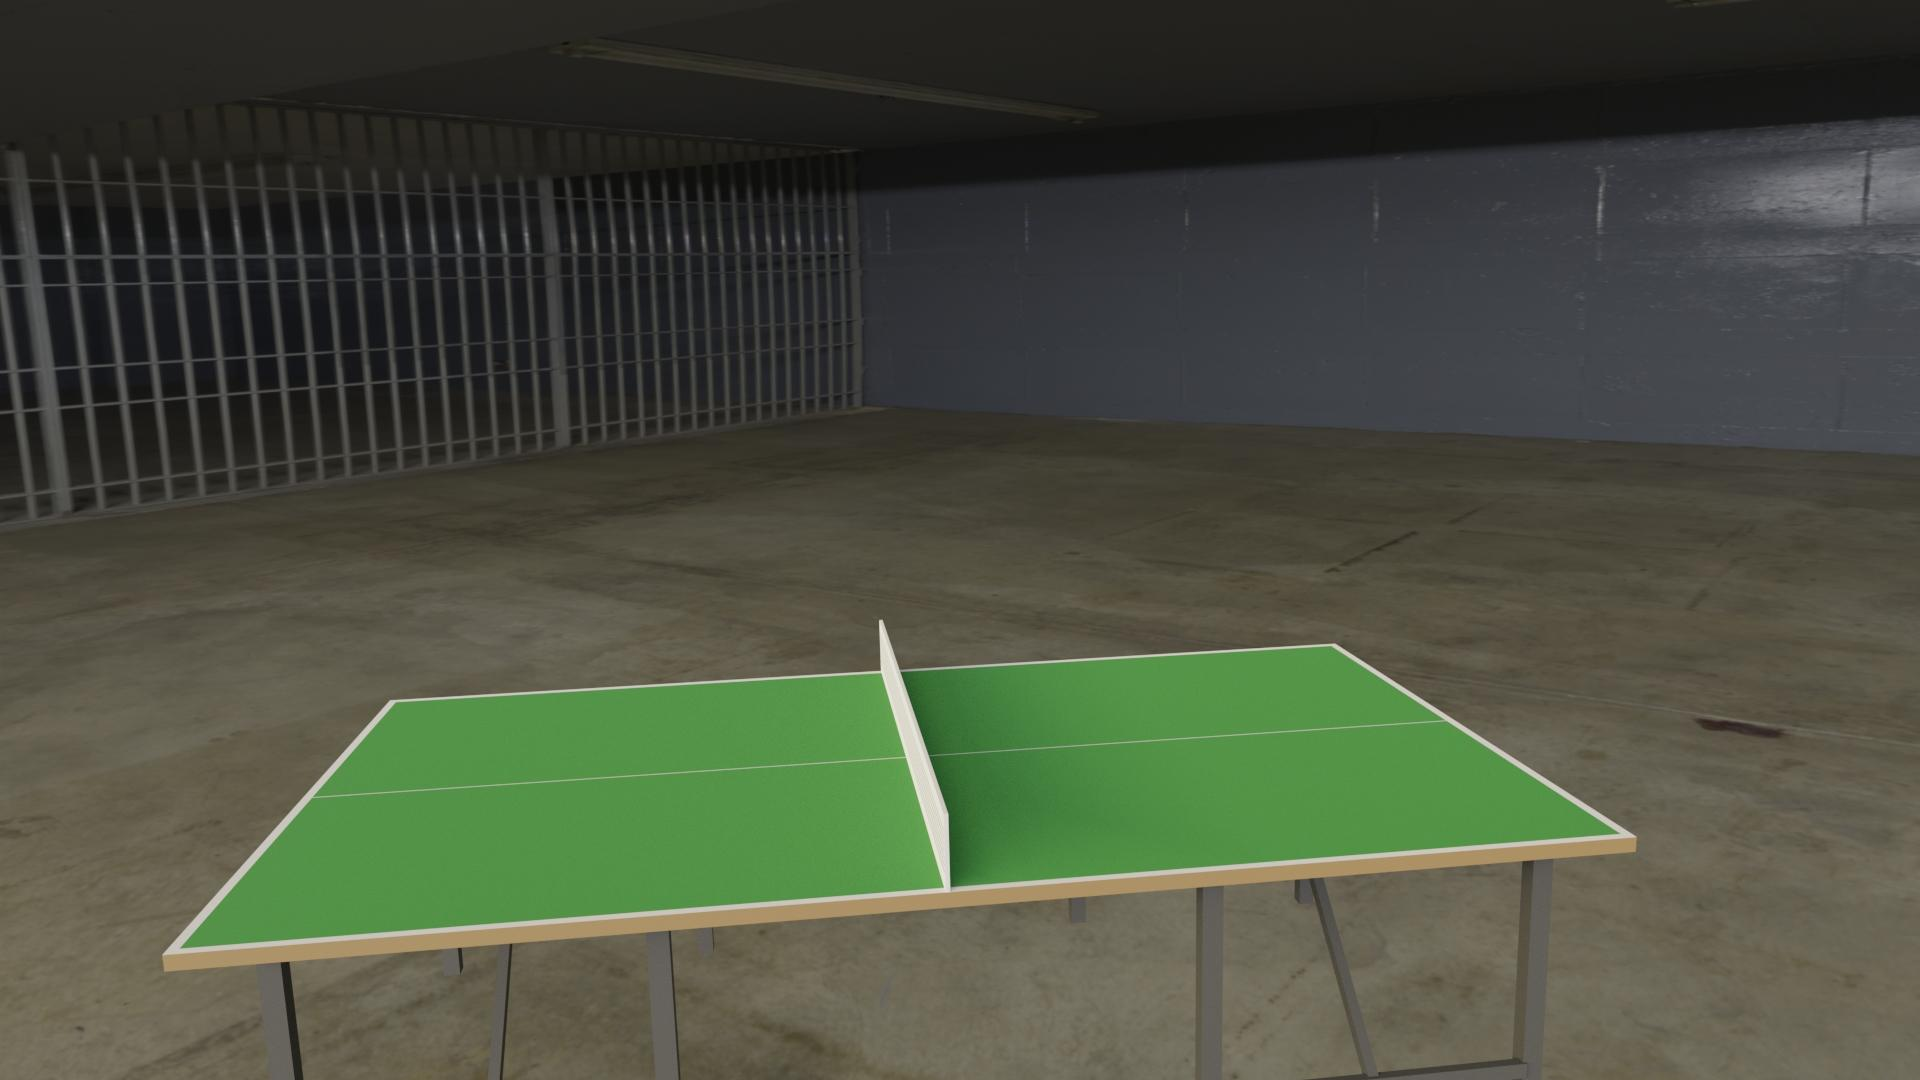table: (179, 646, 1621, 949)
